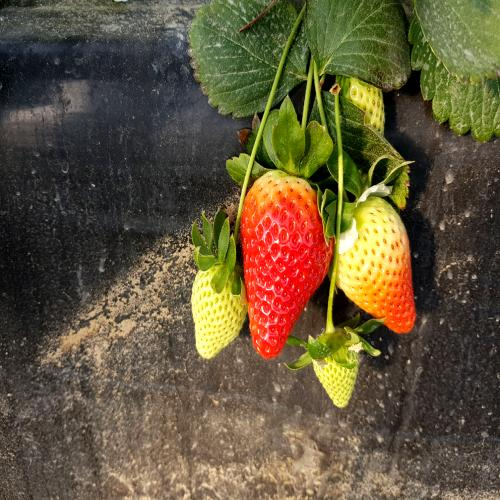unripe: (177, 222, 248, 367), (311, 329, 363, 414)
